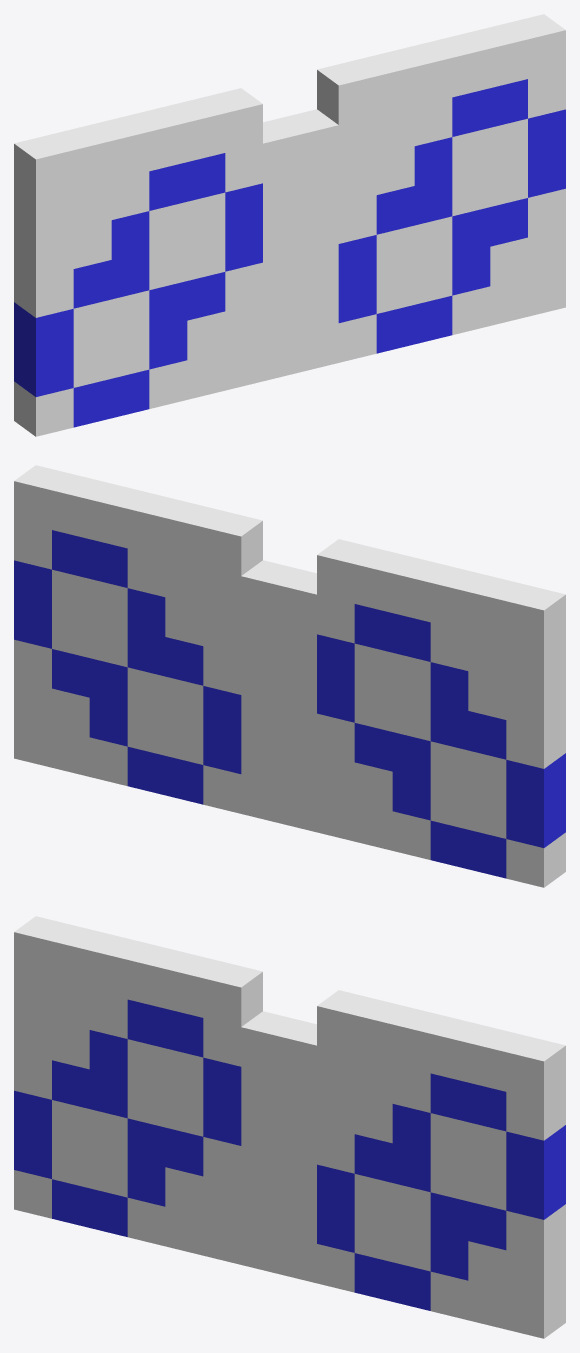
3 views of the same model, one above another, from view 1: azimuth 30°, elevation 25°; view 2: azimuth 150°, elevation 25°; view 3: azimuth 330°, elevation 25° (orthographic).
Visible parts, largest first — view 1: eye-shapes071, eye-shapes039; view 2: eye-shapes071, eye-shapes039; view 3: eye-shapes071, eye-shapes039.
Part boxes in pixels (<box>): eye-shapes071: <box>14,14,565,436</box>; eye-shapes039: <box>14,79,565,427</box>; eye-shapes071: <box>14,465,565,887</box>; eye-shapes039: <box>14,530,565,878</box>; eye-shapes071: <box>14,916,565,1338</box>; eye-shapes039: <box>14,999,565,1310</box>.
Bounding box in the file's own units: 140 × 70 × 10.
2 materials, 2 textured.
